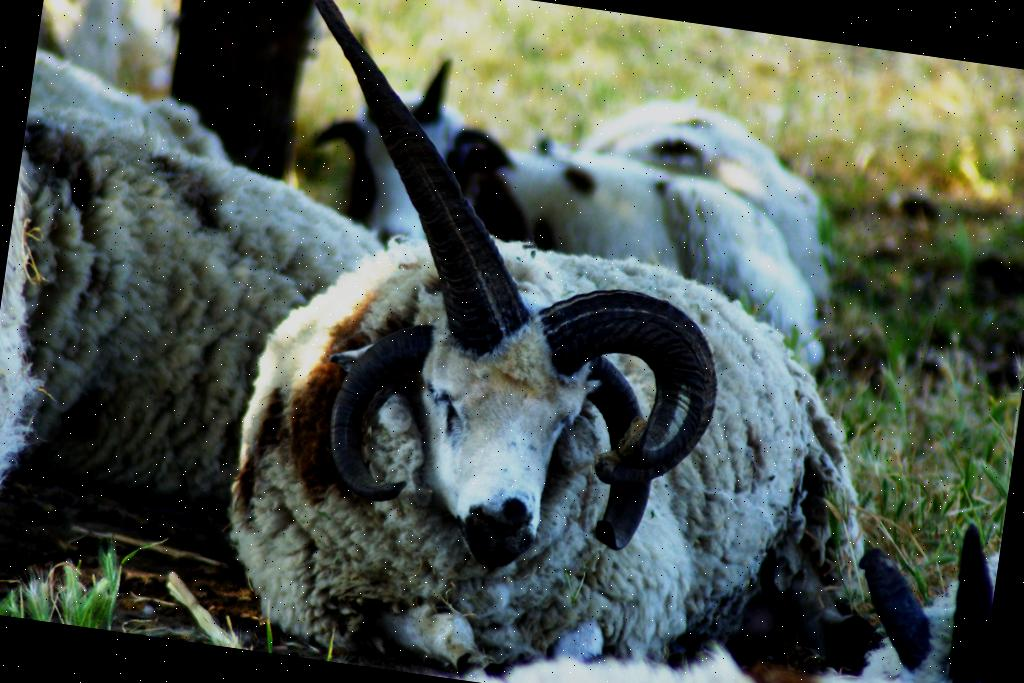Sheep: (204, 160, 930, 683), (282, 46, 869, 370), (0, 114, 390, 582), (540, 77, 865, 316), (835, 487, 1006, 683)
